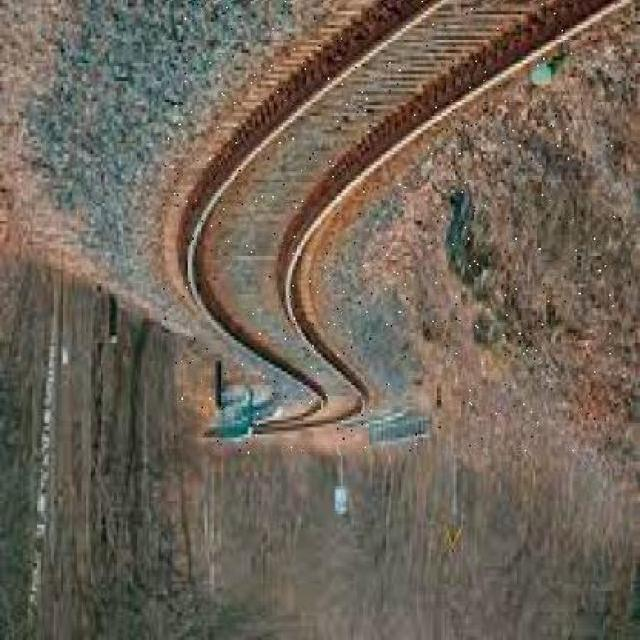rail: (164, 2, 616, 454)
